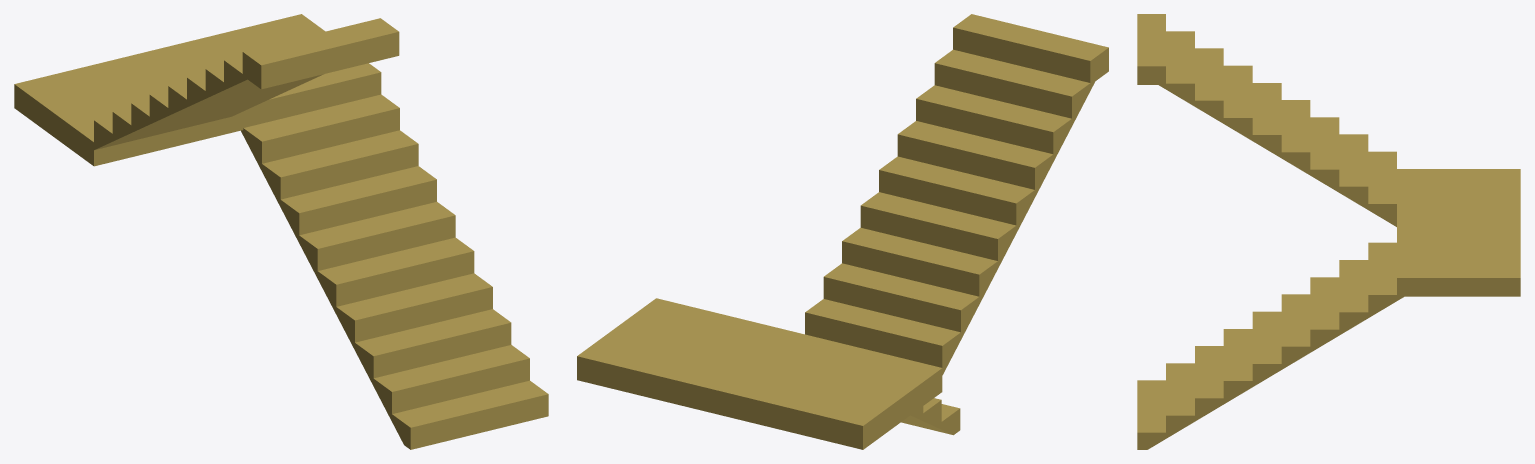
The model's file is arch_stair_u_f350.glb.
The picture shows the model from 3 angles, left to right: view 1: azimuth 30°, elevation 25°; view 2: azimuth 150°, elevation 25°; view 3: azimuth 270°, elevation 25°; orthographic projection. The views are drawn at different scales.
Visible parts, largest first — view 1: Stair; view 2: Stair; view 3: Stair.
Part boxes in pixels (<box>): Stair: <box>14,14,548,449</box>; Stair: <box>577,14,1108,449</box>; Stair: <box>1137,14,1520,449</box>.
Size of what is drawn, in the model's own units: 2.5 by 3.5 by 3.72.
